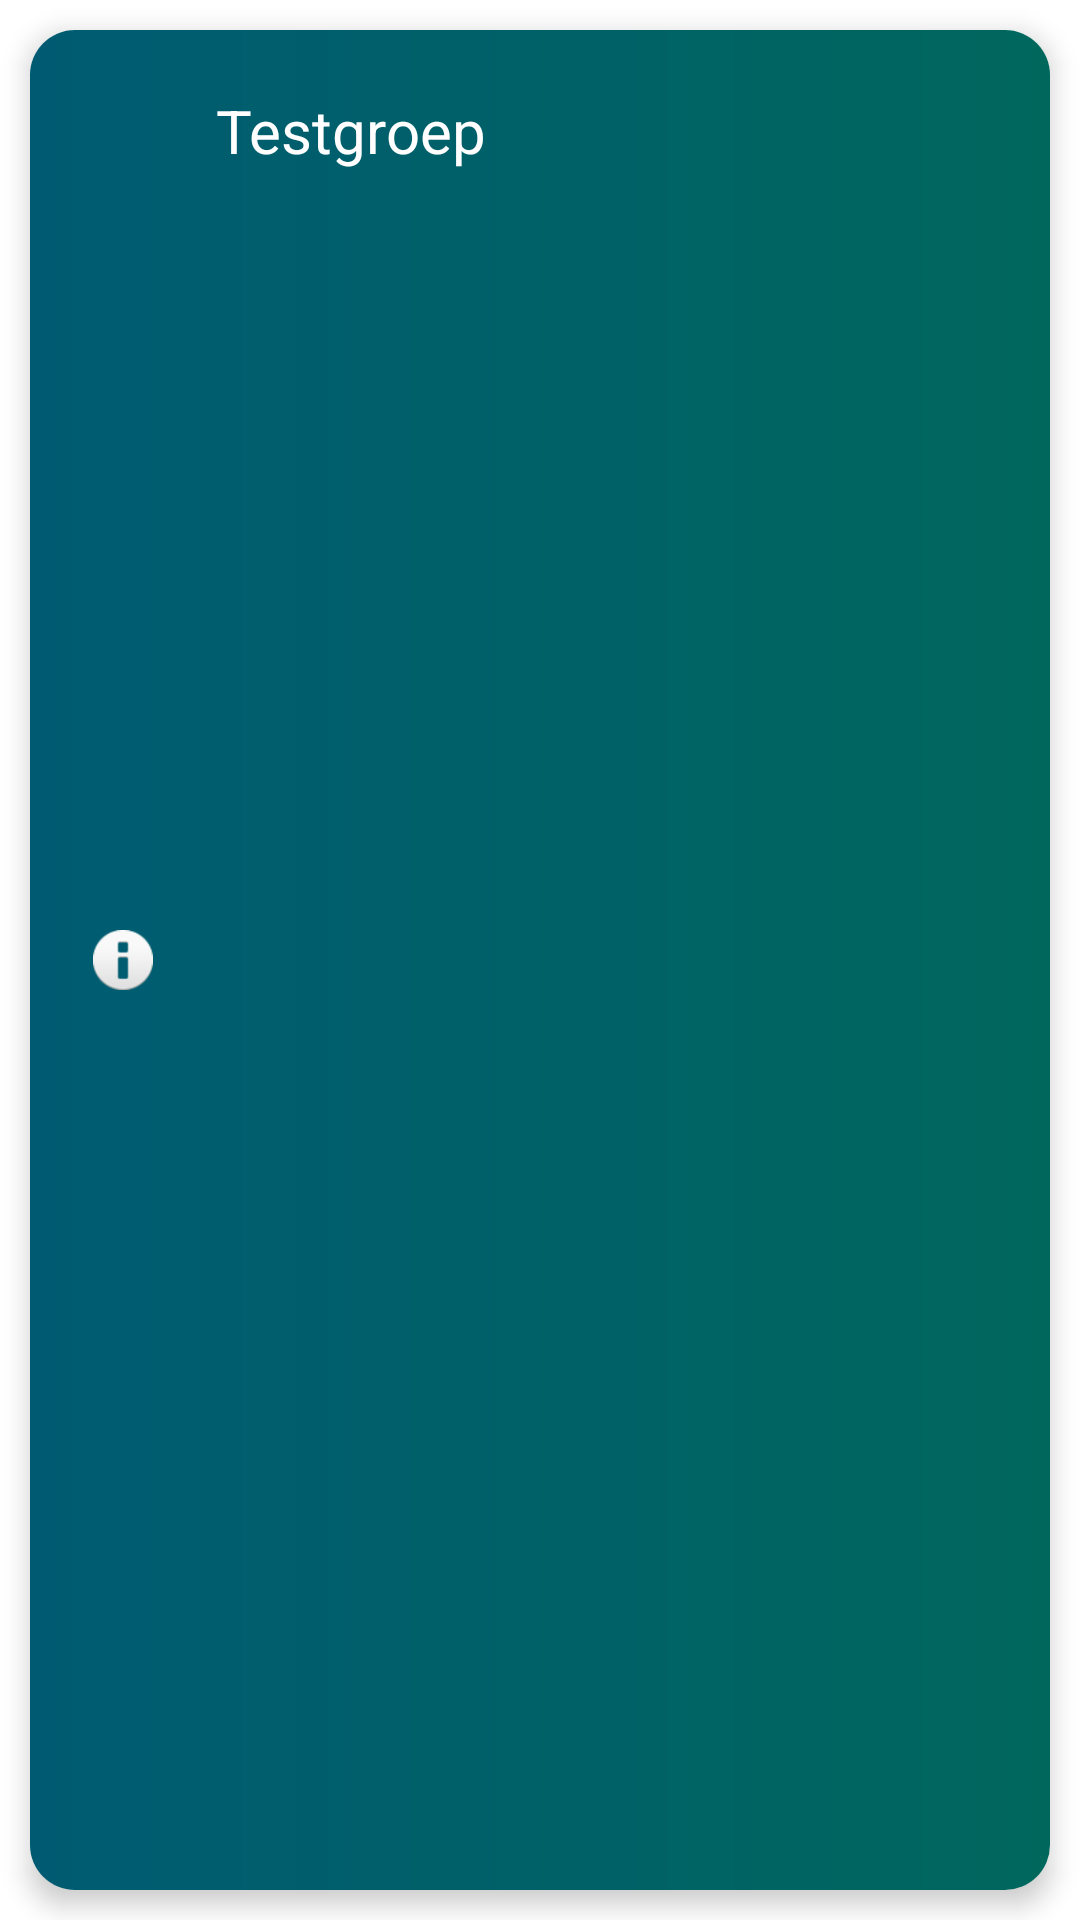

Screen size 1080w x 1920h. Icon name, then its center in pixels as point (x, y):
info: point (123, 960)
